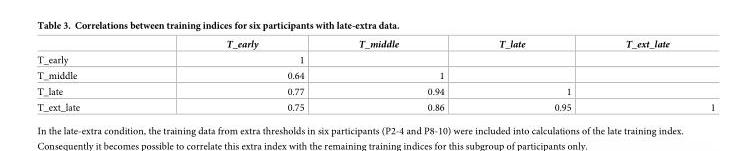table: (36, 37, 714, 112)
table column: (152, 37, 330, 112), (330, 37, 470, 112), (470, 37, 597, 112), (597, 37, 714, 112), (36, 37, 152, 112)
table column header: (36, 37, 714, 52)
table row: (36, 67, 714, 83), (36, 83, 714, 99), (36, 37, 714, 52), (36, 52, 714, 67), (36, 99, 714, 112)
